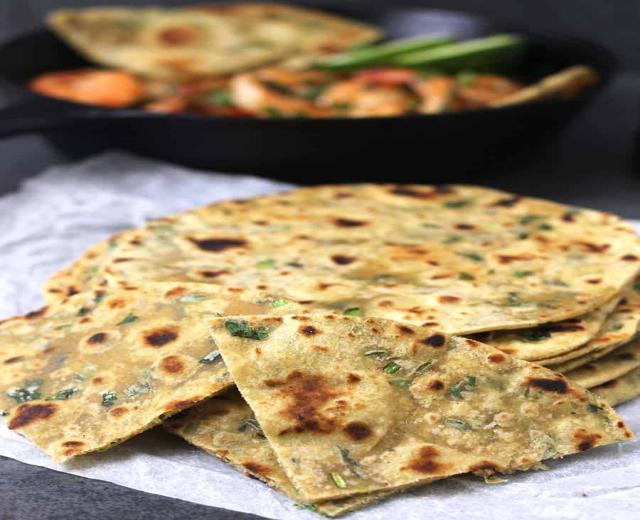chapati: (93, 184, 639, 501), (12, 290, 268, 460)
